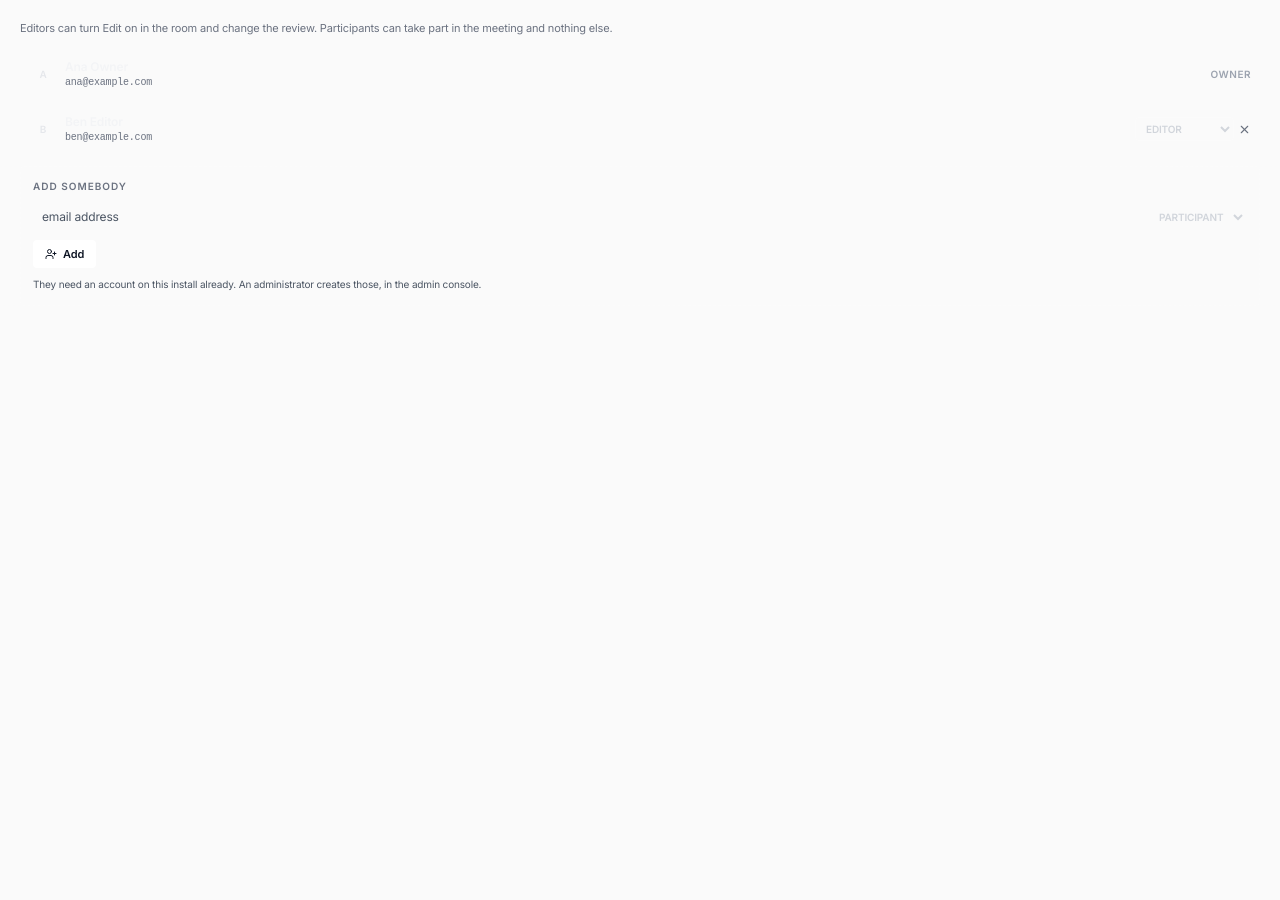
the People tab — adding somebody › says what the endpoint refused — an address nobody signs in with
Type "stranger@example.com" into the field with placeholder "email address" at {"x": 588, "y": 217}, box [33,202,1142,232]
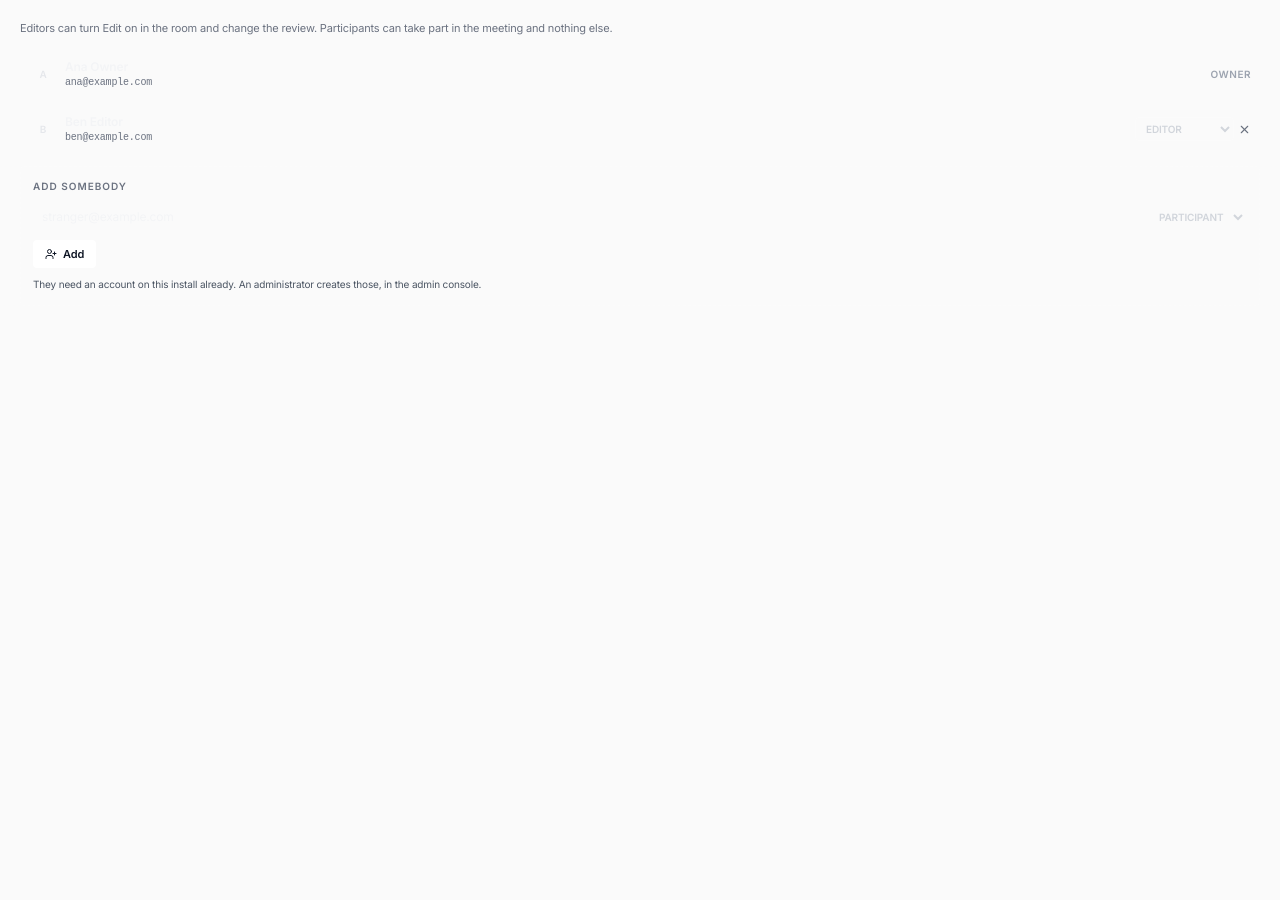
Click the button "Add" at {"x": 65, "y": 254}, box [33,240,96,268]
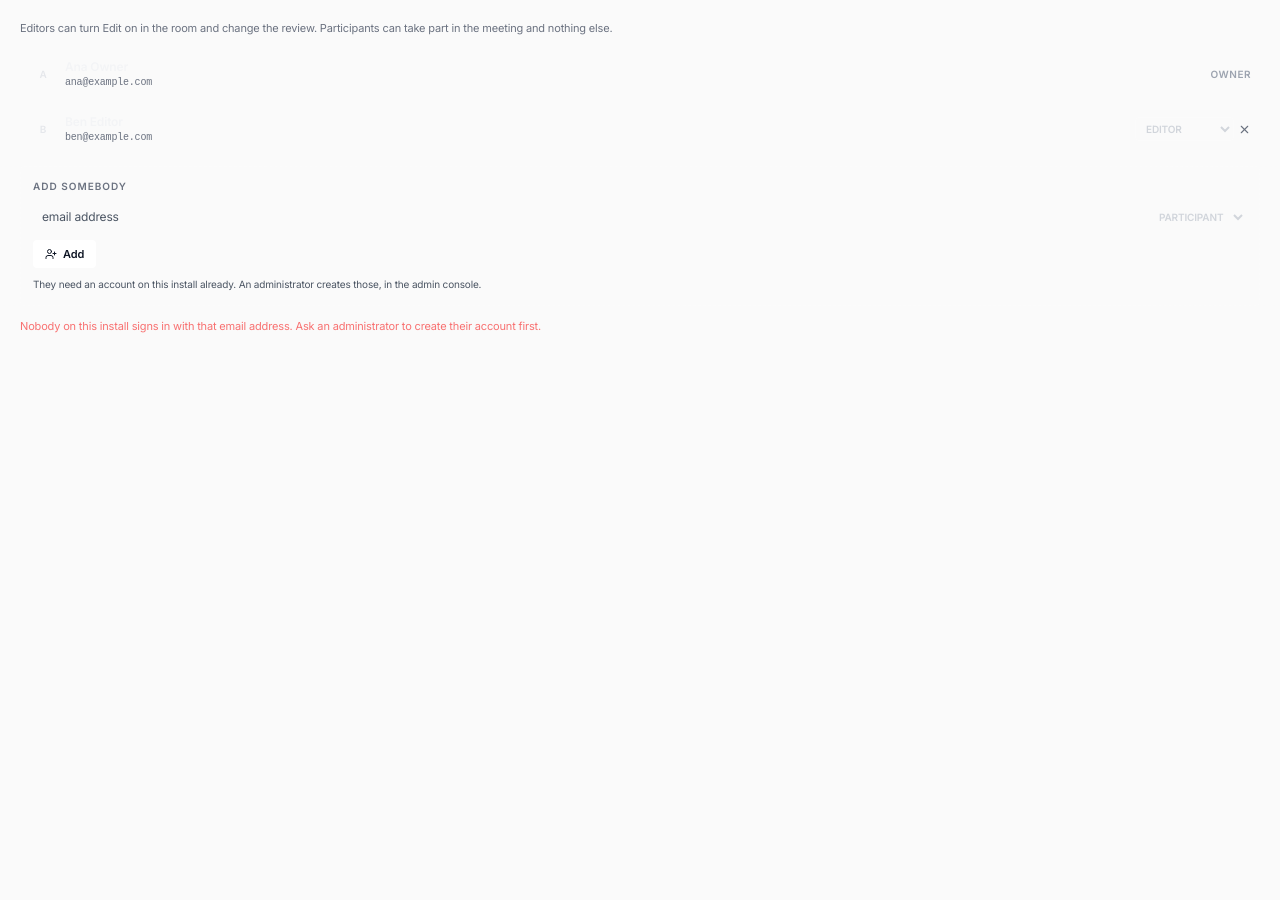
Expected: the text "Nobody on this install signs in with that email address" is shown, [20,319,541,333]
